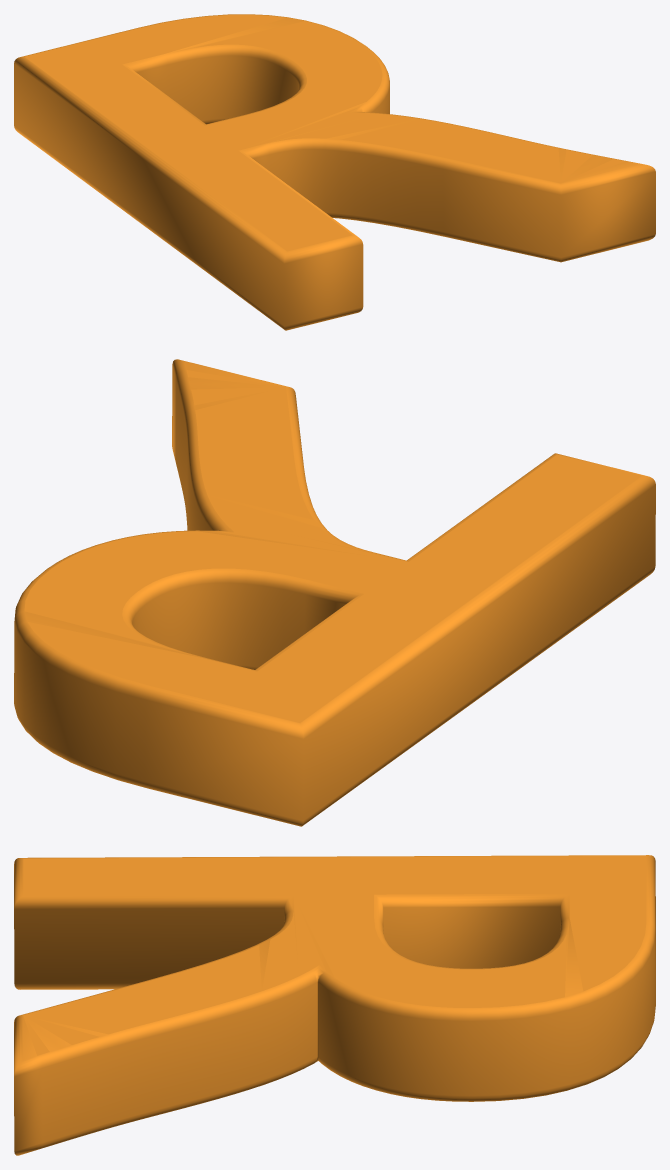
File: ToyObject_235.fbx
3 views of the same model, one above another, from view 1: azimuth 30°, elevation 25°; view 2: azimuth 150°, elevation 25°; view 3: azimuth 270°, elevation 25° (orthographic). The views are drawn at different scales.
Visible parts, largest first — view 1: Object.091; view 2: Object.091; view 3: Object.091.
Part boxes in pixels (left/top/right/bottom): Object.091: left=14, top=14, right=655, bottom=330; Object.091: left=14, top=359, right=655, bottom=826; Object.091: left=14, top=855, right=655, bottom=1155.
Bounding box in the file's own units: 0.1189 × 0.0249 × 0.1499.
